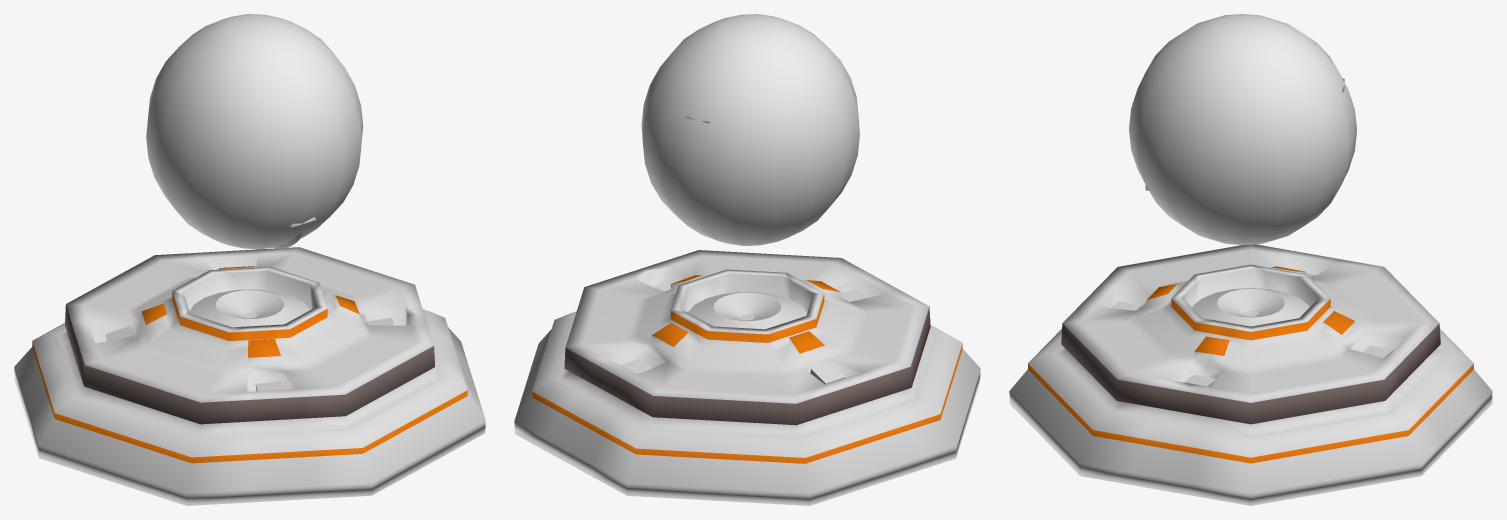
Rendered from powerup.fbx.
3 views of the same model, side by side, from view 1: azimuth 30°, elevation 25°; view 2: azimuth 150°, elevation 25°; view 3: azimuth 270°, elevation 25° (orthographic).
Visible parts, largest first — view 1: pSphere2, polySurface8, pCube5; view 2: pSphere2, polySurface8, pCube5; view 3: pSphere2, polySurface8, pCube5.
Part boxes in pixels (x1,y1,x2,y2): pSphere2: (14,247,485,505); polySurface8: (146,14,363,249); pCube5: (105,266,394,391); pSphere2: (514,250,980,505); polySurface8: (641,14,859,245); pCube5: (620,280,868,384); pSphere2: (1009,244,1492,505); polySurface8: (1129,14,1356,245); pCube5: (1111,273,1392,387).
Bounding box in the file's own units: 10.32 × 8.98 × 10.32.
